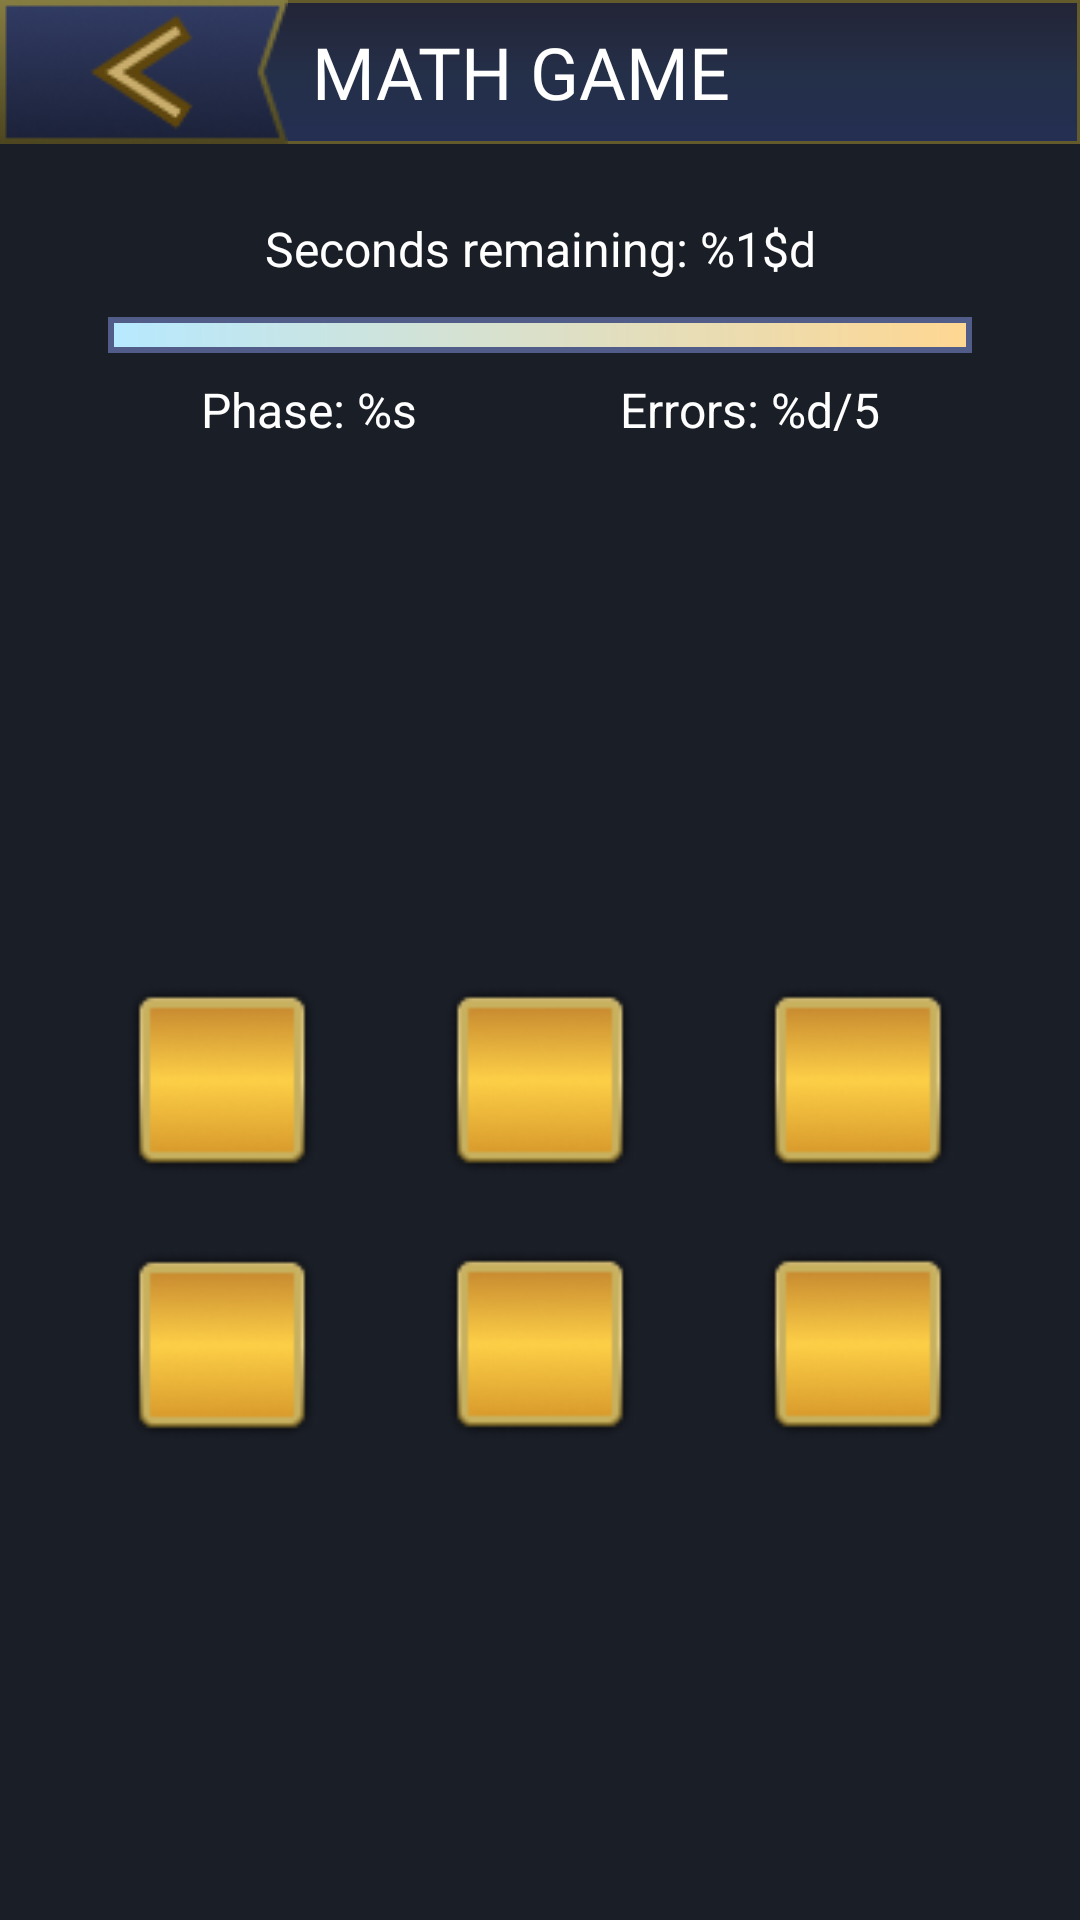

Screen size 1080x1920. Icon name, then its center in pixels as point (x, y):
back: point (144, 72)
